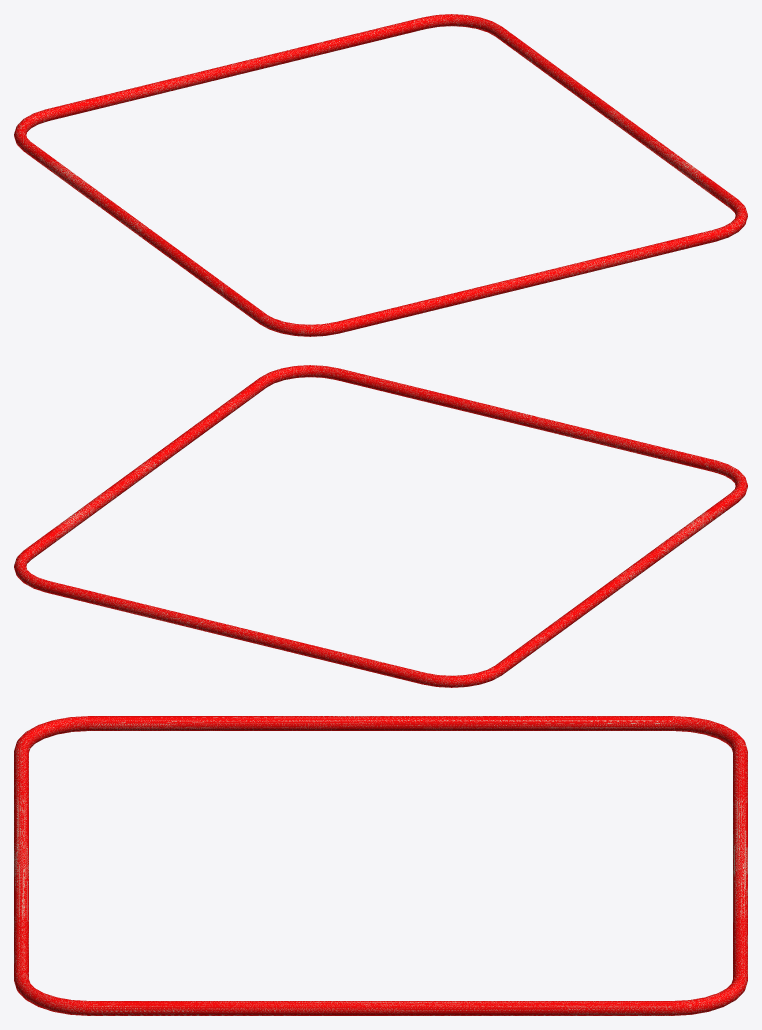
The model's file is original-68.obj.
3 views of the same model, one above another, from view 1: azimuth 30°, elevation 25°; view 2: azimuth 150°, elevation 25°; view 3: azimuth 270°, elevation 25° (orthographic). The views are drawn at different scales.
Visible parts, largest first — view 1: mesh69/mesh69-geometry#mesh69-geometry; view 2: mesh69/mesh69-geometry#mesh69-geometry; view 3: mesh69/mesh69-geometry#mesh69-geometry.
Part boxes in pixels (x1=…): mesh69/mesh69-geometry#mesh69-geometry: x1=14, y1=14, x2=747, y2=336; mesh69/mesh69-geometry#mesh69-geometry: x1=14, y1=365, x2=747, y2=687; mesh69/mesh69-geometry#mesh69-geometry: x1=14, y1=716, x2=747, y2=1015.
Size of the model in its own units: 0.3837 by 0.00834 by 0.4087.
